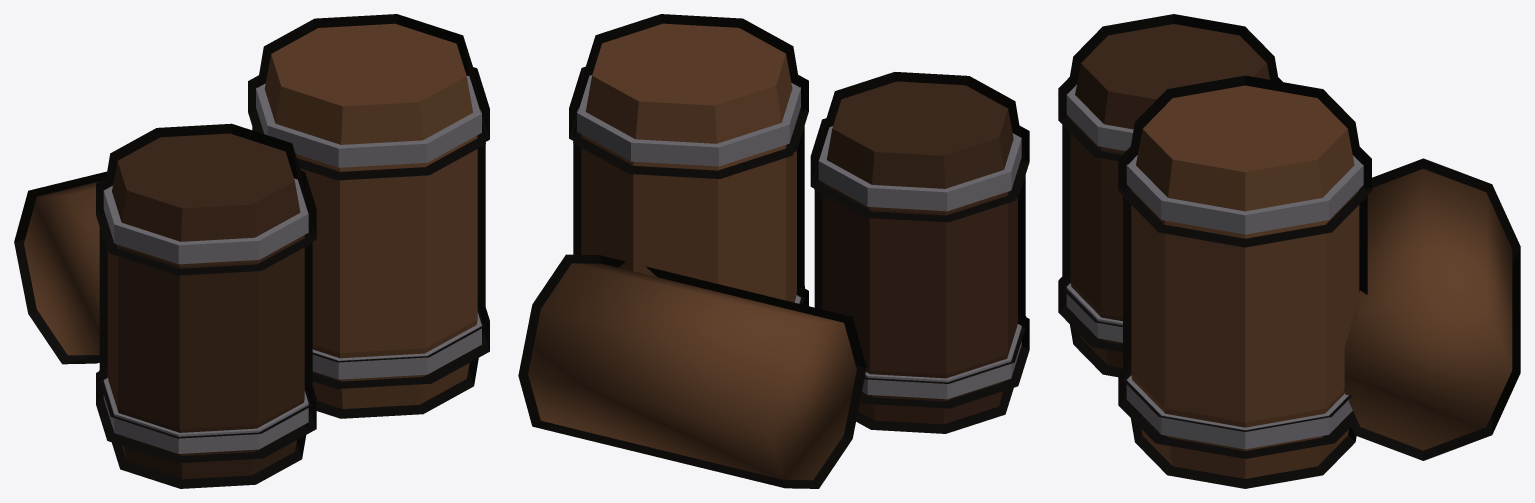
Rendered from barrels.glb.
3 renders of one model, left to right at view 1: azimuth 30°, elevation 25°; view 2: azimuth 150°, elevation 25°; view 3: azimuth 270°, elevation 25°, orthographic. The views are drawn at different scales.
Visible parts, largest first — view 1: Prop_dq_barrels; view 2: Prop_dq_barrels; view 3: Prop_dq_barrels.
Part boxes in pixels (bbox=[...]): Prop_dq_barrels: bbox=[14, 14, 489, 488]; Prop_dq_barrels: bbox=[518, 14, 1029, 488]; Prop_dq_barrels: bbox=[1058, 14, 1520, 488].
Size of the model in its own units: 1.33 by 0.994 by 1.3.
